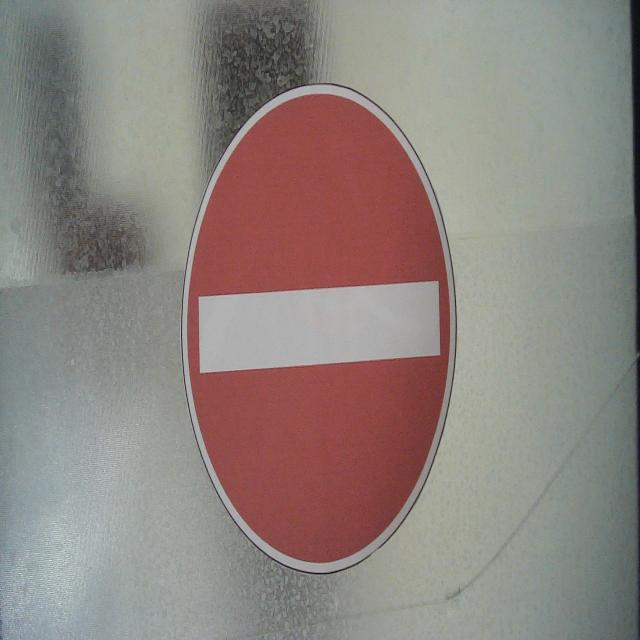no_entry: (179, 78, 459, 577)
